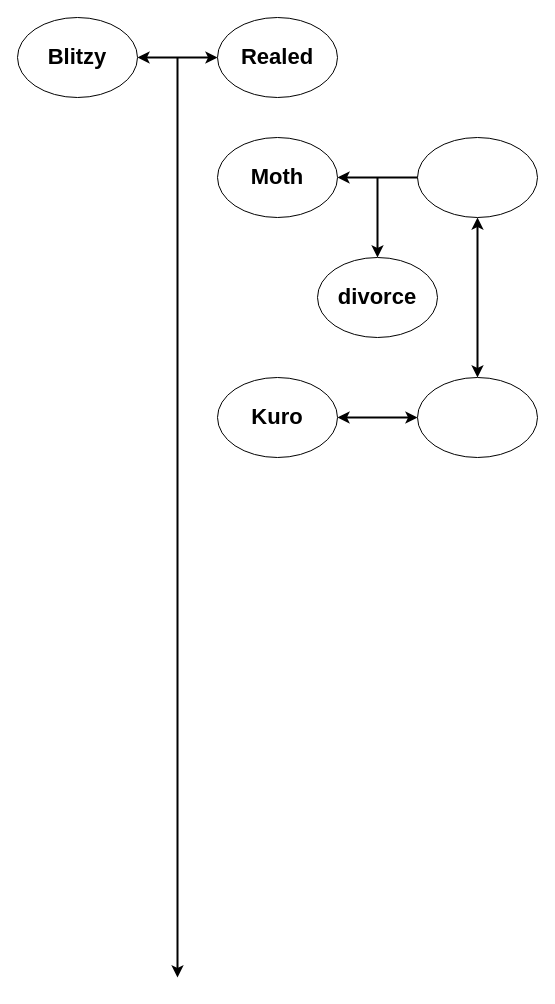
This 555x1004 diagram has some shape labels left out. The box of each missing label's shape, as (x1, y1, x2, y2) in pixels:
Josue: (416, 136, 538, 218)
Obama: (416, 376, 538, 458)
